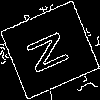N: (25, 25, 79, 77)
